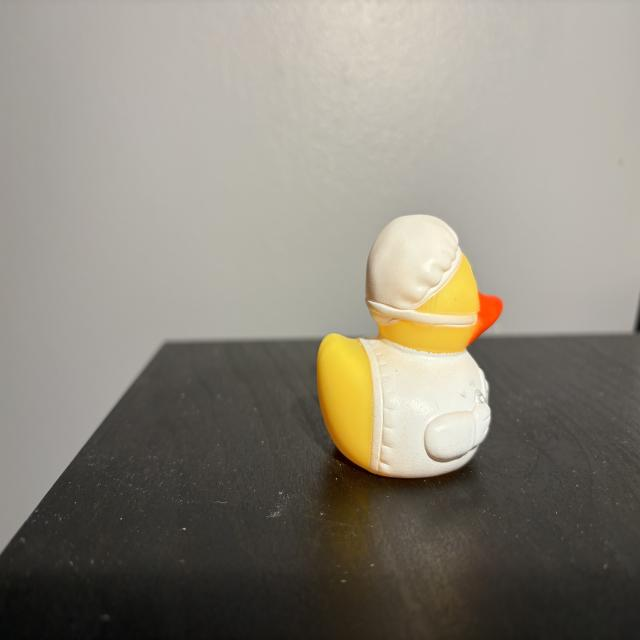duck_specialty: (319, 216, 504, 479)
